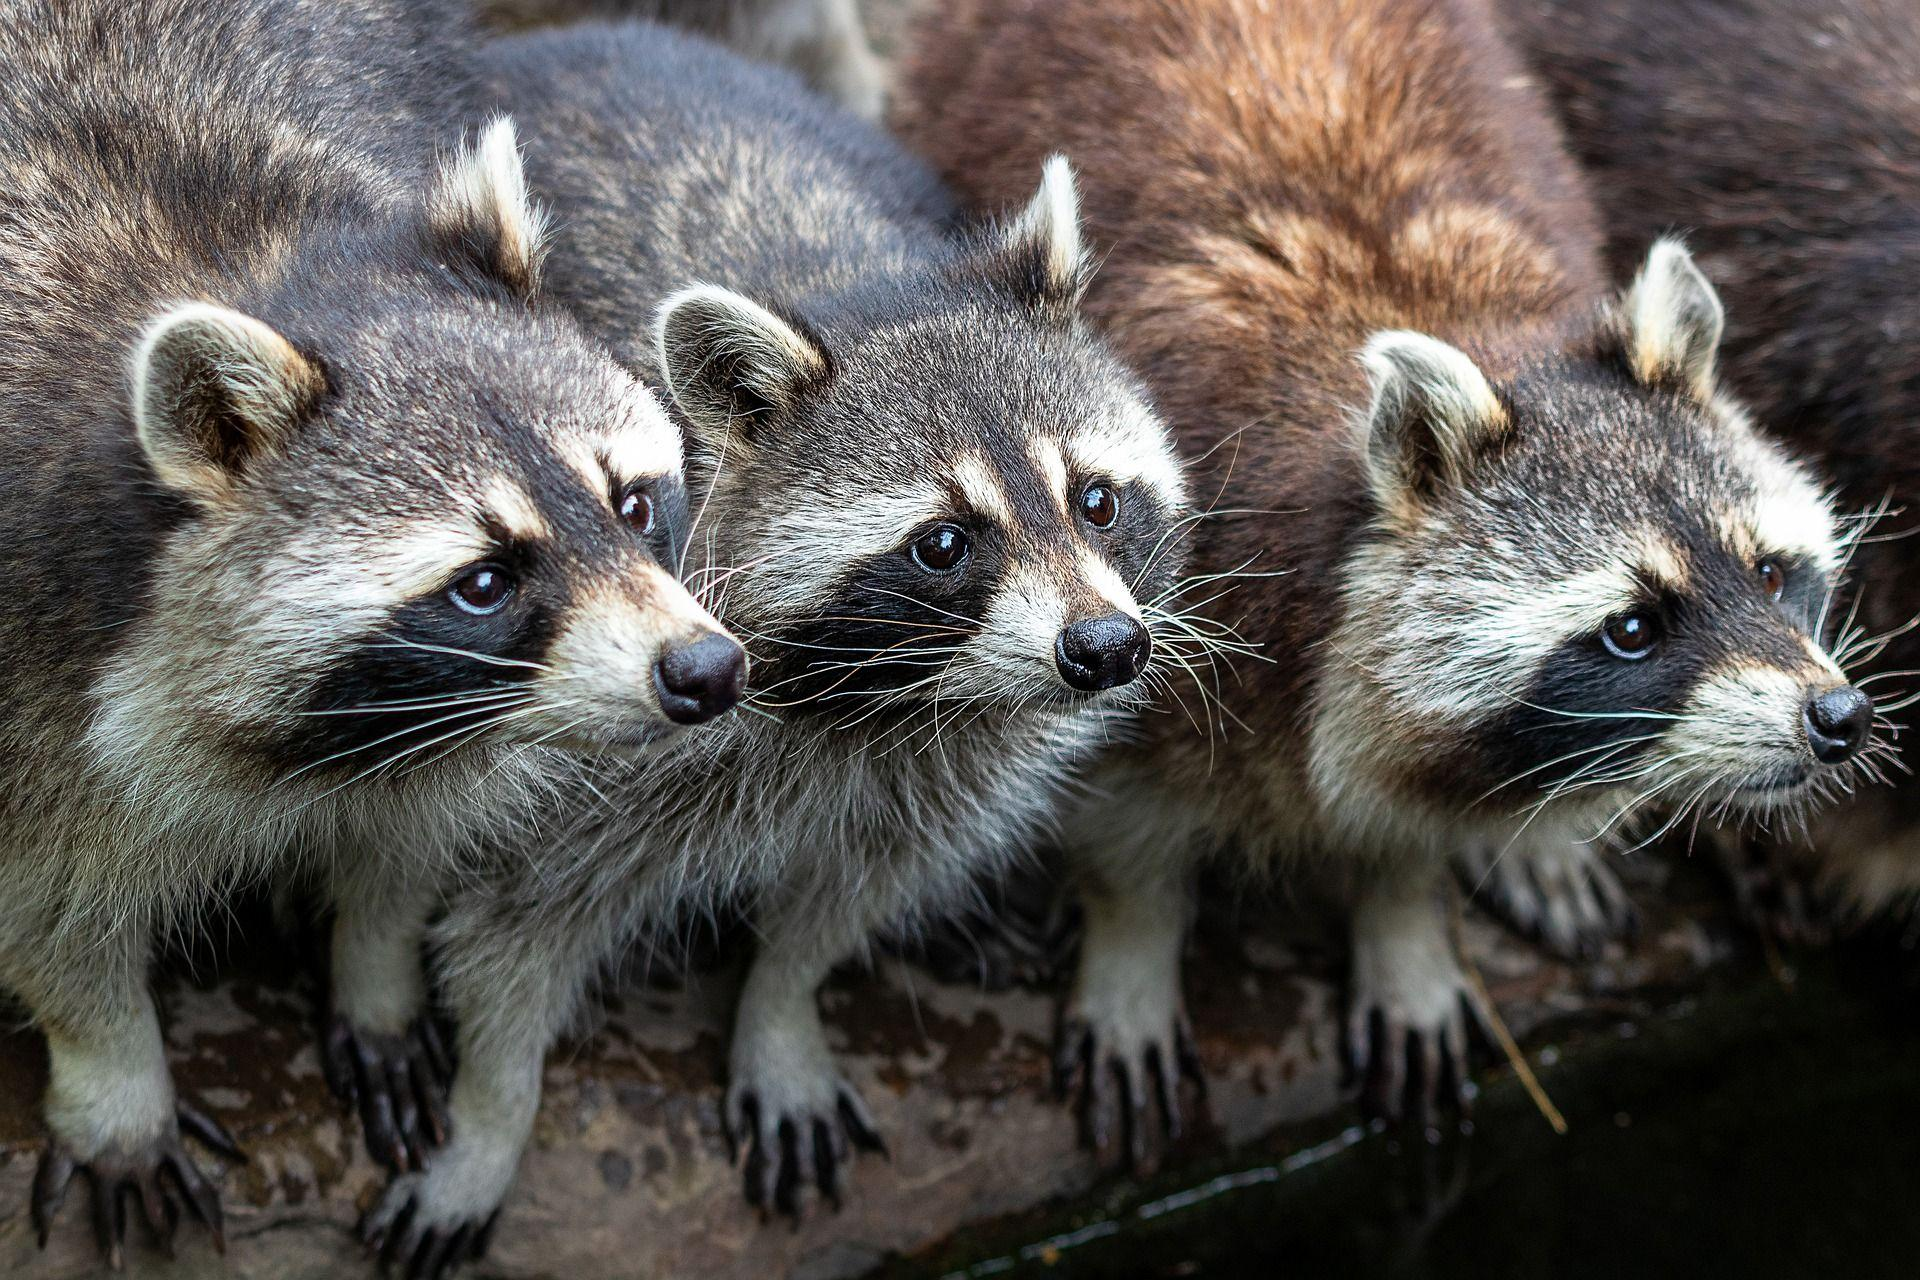raccoon: (1189, 0, 1920, 1280), (0, 0, 734, 1271), (501, 0, 1194, 1280)
